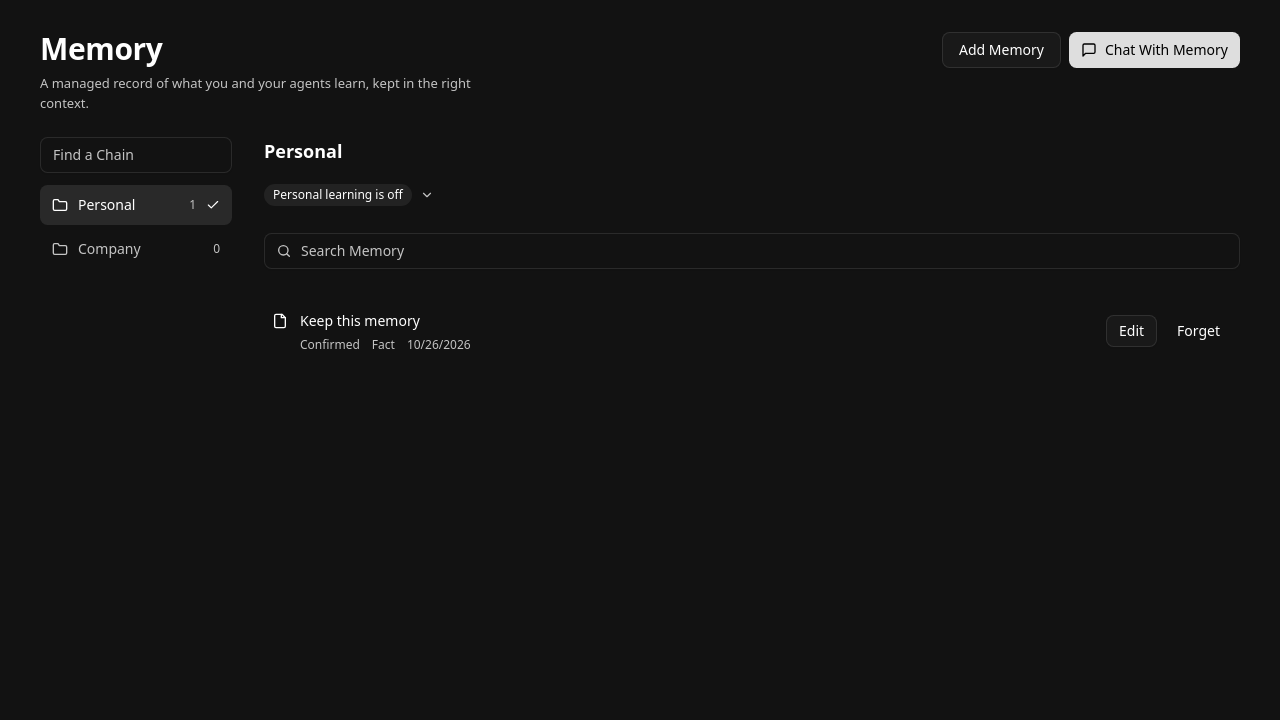
Test: finding another memory chain preserves the active correction draft
Click the button "Edit" at (1132, 330), box [1106,314,1157,346]
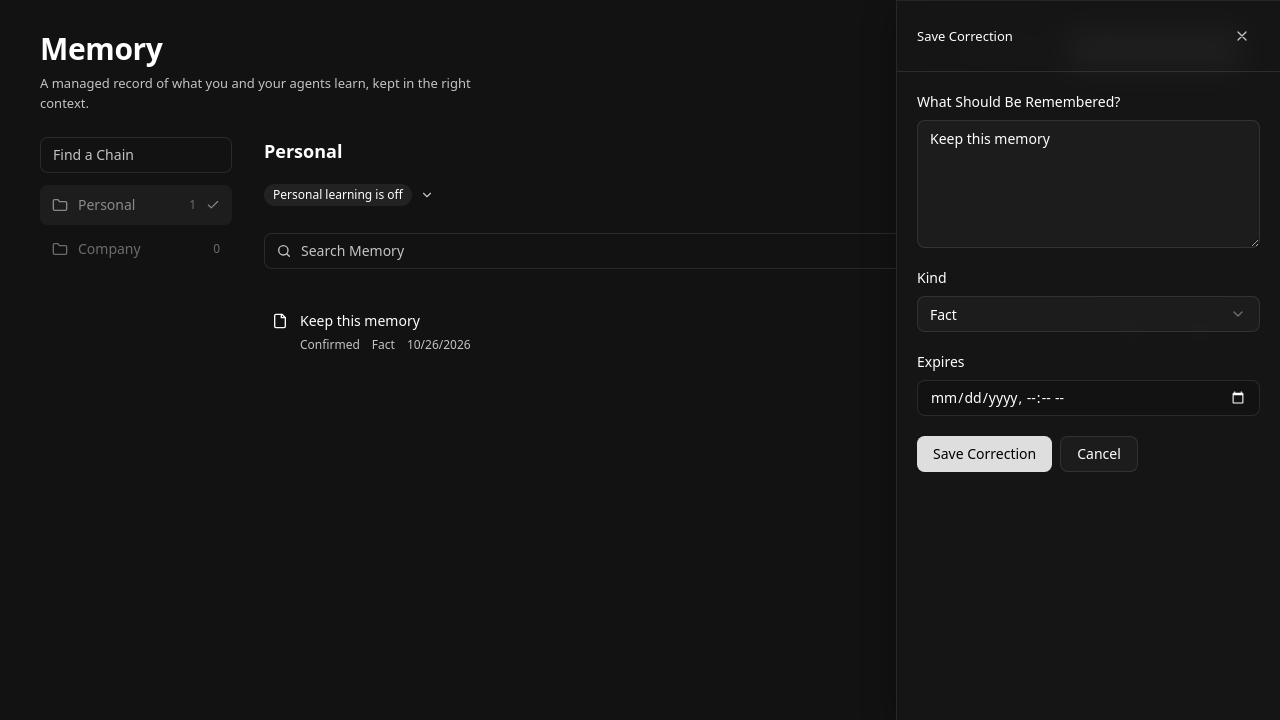
Replace the text in the text box labelled "What Should Be Remembered?" with "Unsaved correction stays here" at (1088, 184), box [917,120,1260,248]
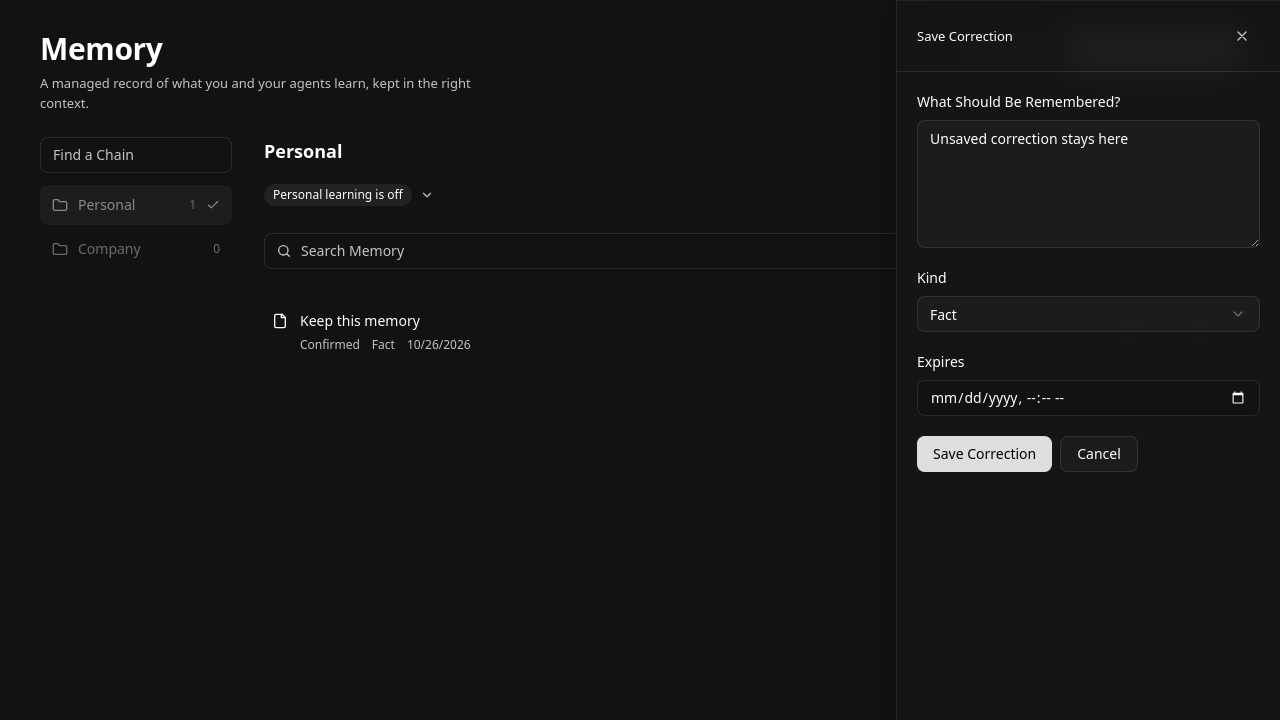
Type "another chain" into the search field with placeholder "Find a Chain" at (136, 154), box [40,136,232,172]
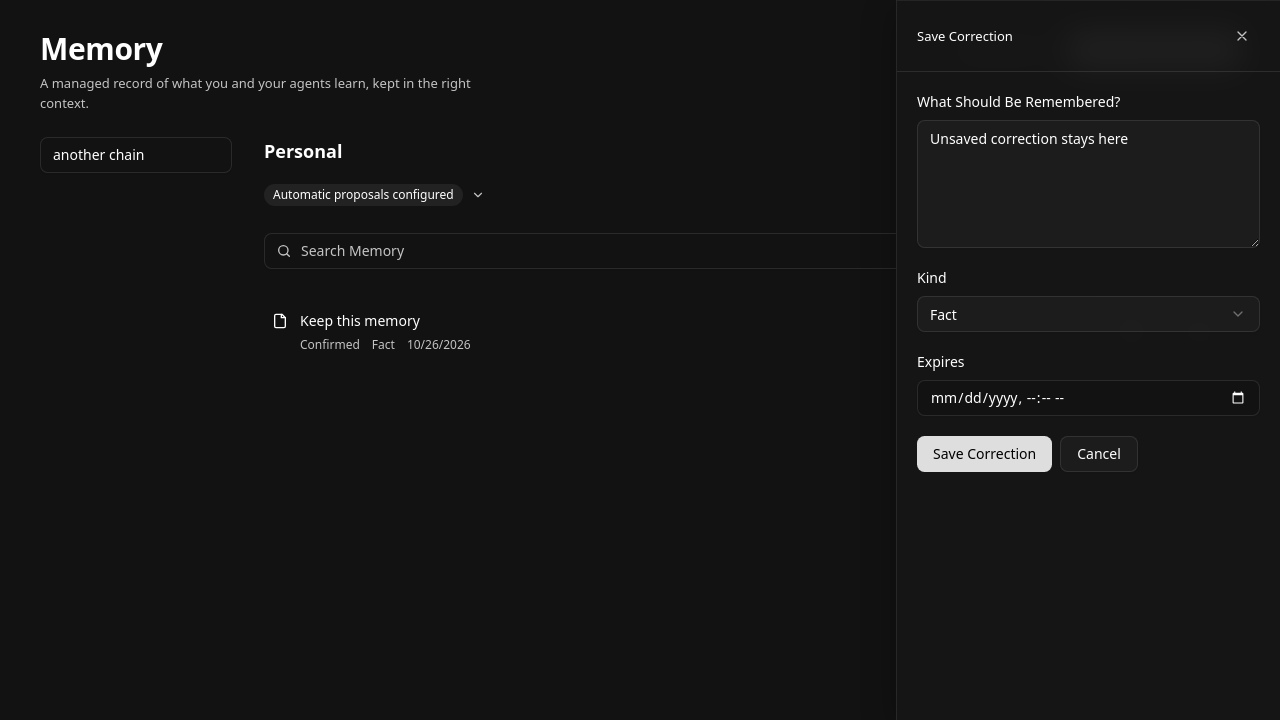
Now the text "Automatic proposals configured" is shown, box [264,184,463,206]
